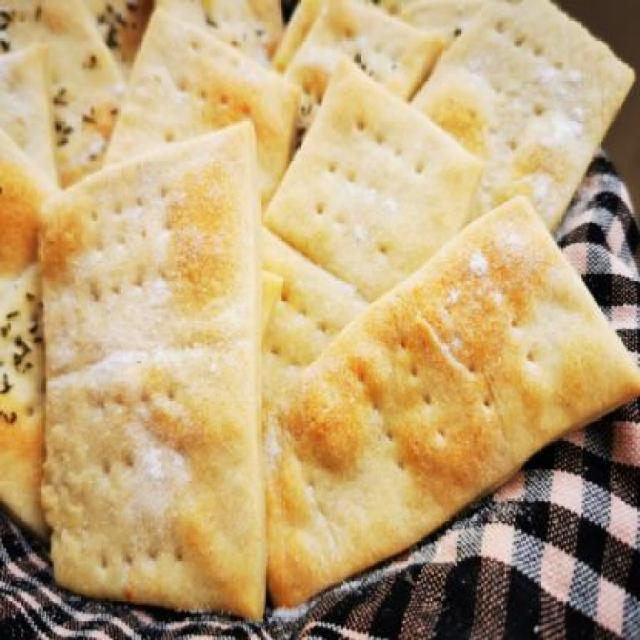Cracker packaged: (238, 196, 636, 609), (34, 120, 278, 640)
